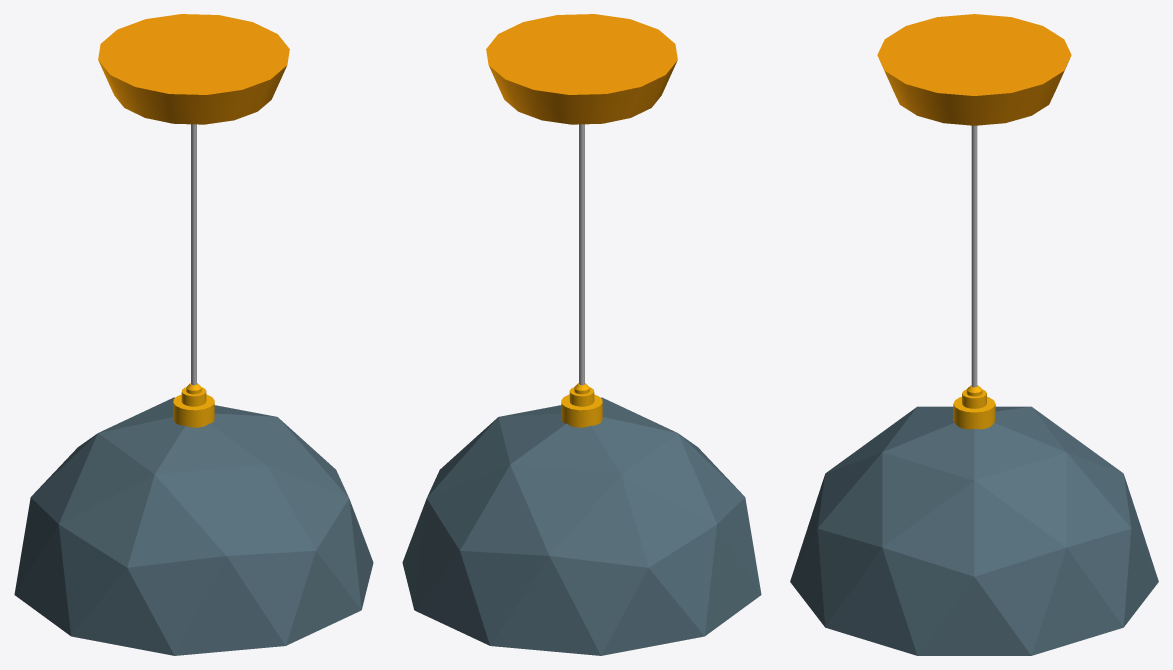
Rendered from Lamp08.fbx.
3 views of the same model, side by side, from view 1: azimuth 30°, elevation 25°; view 2: azimuth 150°, elevation 25°; view 3: azimuth 270°, elevation 25° (orthographic).
Parts seen in each view (by area): view 1: Lamp08; view 2: Lamp08; view 3: Lamp08.
Part boxes in pixels (bbox=[...]): Lamp08: bbox=[14, 14, 373, 655]; Lamp08: bbox=[402, 14, 761, 655]; Lamp08: bbox=[790, 14, 1158, 655].
Size of the model in its own units: 0.4342 by 0.4565 by 0.7203.
